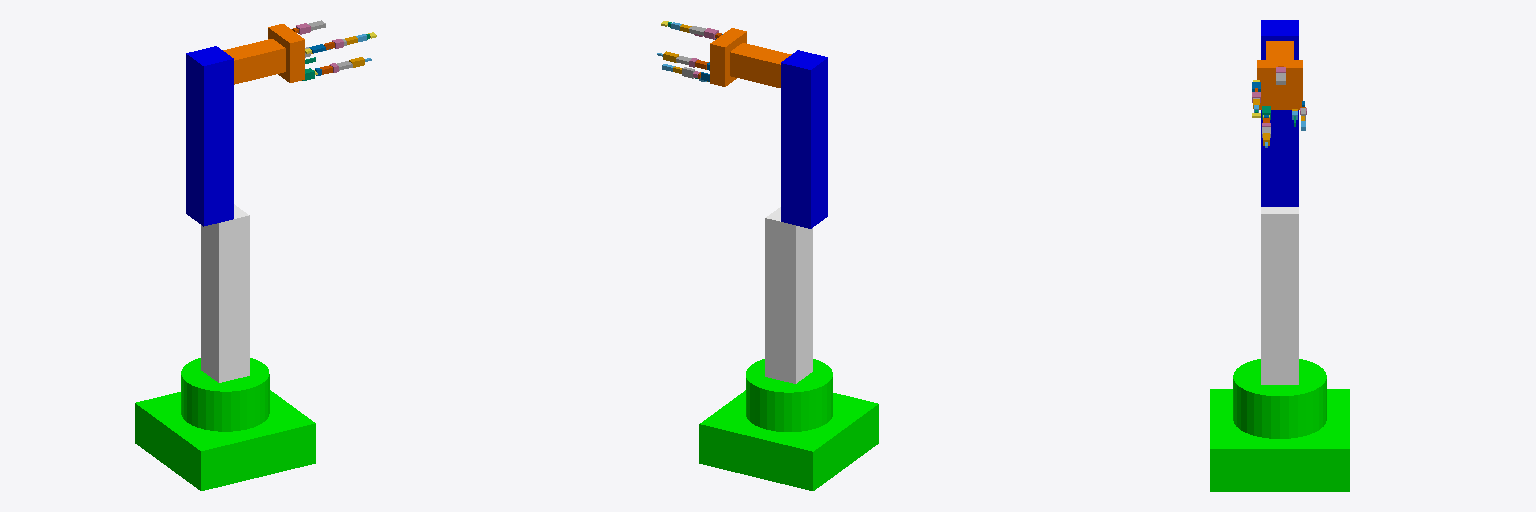
--- Render facts (derived) ---
The picture shows the robot from 3 angles, left to right: view 1: azimuth 30°, elevation 25°; view 2: azimuth 150°, elevation 25°; view 3: azimuth 270°, elevation 25°; orthographic projection.
Model robot with 34 links and 33 joints (30 revolute, 1 continuous, 2 fixed), rooted at base_link, posed all joints at 0.
Visible links, largest first — view 1: base_link, arm_link, support_link, wrist_link, palm_link; view 2: base_link, arm_link, support_link, wrist_link, palm_link; view 3: base_link, support_link, arm_link, palm_link, wrist_link.
Boxes of the visible links, left/top/right/bottom form: base_link: left=135, top=358, right=315, bottom=490; arm_link: left=186, top=46, right=233, bottom=226; support_link: left=201, top=204, right=249, bottom=382; wrist_link: left=223, top=39, right=285, bottom=84; palm_link: left=268, top=24, right=304, bottom=82; base_link: left=699, top=359, right=878, bottom=490; arm_link: left=781, top=50, right=827, bottom=228; support_link: left=765, top=207, right=812, bottom=383; wrist_link: left=730, top=43, right=791, bottom=87; palm_link: left=710, top=28, right=746, bottom=86; base_link: left=1210, top=359, right=1349, bottom=491; support_link: left=1261, top=207, right=1298, bottom=384; arm_link: left=1261, top=20, right=1298, bottom=206; palm_link: left=1257, top=60, right=1302, bottom=109; wrist_link: left=1266, top=41, right=1293, bottom=59.
Bounding box of the posed robot: 1.28 × 0.75 × 2.54 m (x, y, z).
Geometry: primitives only (box / cylinder / sphere), no mesh files.

URDF robot description (robot):
<?xml version='1.0' encoding='utf-8'?>
<robot name="robot">
  <link name="base_link">
    <visual>
      <origin xyz="0 0 0.125" rpy="0 0 0" />
      <geometry>
        <box size="0.75 0.75 0.25" />
      </geometry>
      <material name="green" />
    </visual>
    <visual>
      <origin xyz="0 0 0.375" rpy="0 0 0" />
      <geometry>
        <cylinder length="0.25" radius="0.25" />
      </geometry>
      <material name="green">
        <color rgba="0 1 0 1" />
      </material>
    </visual>
    <collision>
      <geometry>
        <box size="0.75 0.75 0.5" />
      </geometry>
    </collision>
    <inertial>
      <mass value="0.5" />
      <inertia ixx="0.034" ixy="0.0" ixz="0.0" iyy="0.034" iyz="0.0" izz="0.034" />
    </inertial>
  </link>
  <link name="support_link">
    <visual>
      <origin xyz="0 0 0.5" rpy="0 0 0" />
      <geometry>
        <box size="0.2 0.2 1" />
      </geometry>
      <material name="white">
        <color rgba="1 1 1 1" />
      </material>
    </visual>
    <collision>
      <geometry>
        <box size="0.2 0.2 1" />
      </geometry>
    </collision>
    <inertial>
      <mass value="0.1" />
      <inertia ixx="0.01" ixy="0.0" ixz="0.0" iyy="0.01" iyz="0.0" izz="0.01" />
    </inertial>
  </link>
  <joint name="support_joint" type="continuous">
    <origin xyz="0 0 0.5" rpy="0 0 0" />
    <parent link="base_link" />
    <child link="support_link" />
    <axis xyz="0 0 1" />
  </joint>
  <link name="arm_link">
    <visual>
      <origin xyz="0 0 0.5" rpy="0 0 0" />
      <geometry>
        <box size="0.2 0.2 1" />
      </geometry>
      <material name="blue">
        <color rgba="0 0 1 1" />
      </material>
    </visual>
    <collision>
      <geometry>
        <box size="0.2 0.2 1" />
      </geometry>
    </collision>
    <inertial>
      <mass value="0.1" />
      <inertia ixx="0.01" ixy="0.0" ixz="0.0" iyy="0.01" iyz="0.0" izz="0.01" />
    </inertial>
  </link>
  <joint name="arm_joint" type="revolute">
    <origin xyz="-0.1 0 1" rpy="0 0 0" />
    <parent link="support_link" />
    <child link="arm_link" />
    <axis xyz="0 1 0" />
    <limit lower="-3.14" upper="3.14" effort="1.0" velocity="1.0" />
  </joint>
  <link name="wrist_link">
    <visual>
      <origin xyz="0 0 0.25" rpy="0 0 0" />
      <geometry>
        <box size="0.15 0.15 0.5" />
      </geometry>
      <material name="orange">
        <color rgba="1 0.5 0 1" />
      </material>
    </visual>
    <collision>
      <geometry>
        <box size="0.15 0.15 0.5" />
      </geometry>
    </collision>
    <inertial>
      <mass value="0.1" />
      <inertia ixx="0.01" ixy="0.0" ixz="0.0" iyy="0.01" iyz="0.0" izz="0.01" />
    </inertial>
  </link>
  <joint name="wrist_joint" type="fixed">
    <origin xyz="0 0 0.9" rpy="0 1.571 0" />
    <parent link="arm_link" />
    <child link="wrist_link" />
  </joint>
  <link name="palm_link">
    <visual>
      <origin xyz="0 0 0.05" rpy="0 0 0" />
      <geometry>
        <box size="0.25 0.25 0.1" />
      </geometry>
      <material name="orange" />
    </visual>
    <collision>
      <geometry>
        <box size="0.25 0.25 0.1" />
      </geometry>
    </collision>
    <inertial>
      <mass value="0.1" />
      <inertia ixx="0.01" ixy="0.0" ixz="0.0" iyy="0.01" iyz="0.0" izz="0.01" />
    </inertial>
  </link>
  <joint name="palm_joint" type="fixed">
    <origin xyz="0 0 0.45" rpy="0 0 0" />
    <parent link="wrist_link" />
    <child link="palm_link" />
  </joint>
  <link name="finger_link_0_0">
    <visual>
      <origin xyz="0 0 0.013" rpy="0 0 0" />
      <geometry>
        <box size="0.018 0.033 0.026" />
      </geometry>
    </visual>
    <collision>
      <geometry>
        <box size="0.018 0.033 0.026" />
      </geometry>
    </collision>
    <inertial>
      <mass value="0.005" />
      <inertia ixx="0.0" iyy="0.0" izz="0.0" ixy="0" ixz="0" iyz="0" />
    </inertial>
  </link>
  <joint name="finger_joint_palm_link_to_finger_link_0_0" type="revolute">
    <origin xyz="-0.125 0.005 0.1" rpy="0 0 0" />
    <parent link="palm_link" />
    <child link="finger_link_0_0" />
    <axis xyz="0.0 -1.0 0.0" />
    <limit lower="-3.142" upper="3.142" effort="10" velocity="10" />
  </joint>
  <link name="finger_link_0_1">
    <visual>
      <origin xyz="0 0 0.035" rpy="0 0 0" />
      <geometry>
        <box size="0.038 0.05 0.07" />
      </geometry>
    </visual>
    <collision>
      <geometry>
        <box size="0.038 0.05 0.07" />
      </geometry>
    </collision>
    <inertial>
      <mass value="0.04" />
      <inertia ixx="0.0" iyy="0.0" izz="0.0" ixy="0" ixz="0" iyz="0" />
    </inertial>
  </link>
  <joint name="finger_joint_finger_link_0_0_to_finger_link_0_1" type="revolute">
    <origin xyz="0.0 0.0 0.026" rpy="0 0 0" />
    <parent link="finger_link_0_0" />
    <child link="finger_link_0_1" />
    <axis xyz="1.0 0.0 0.0" />
    <limit lower="-3.142" upper="3.142" effort="10" velocity="10" />
  </joint>
  <link name="finger_link_0_2">
    <visual>
      <origin xyz="0 0 0.0495" rpy="0 0 0" />
      <geometry>
        <box size="0.023 0.05 0.099" />
      </geometry>
    </visual>
    <collision>
      <geometry>
        <box size="0.023 0.05 0.099" />
      </geometry>
    </collision>
    <inertial>
      <mass value="0.034" />
      <inertia ixx="0.0" iyy="0.0" izz="0.0" ixy="0" ixz="0" iyz="0" />
    </inertial>
  </link>
  <joint name="finger_joint_finger_link_0_1_to_finger_link_0_2" type="revolute">
    <origin xyz="0.0 0.0 0.07" rpy="0 0 0" />
    <parent link="finger_link_0_1" />
    <child link="finger_link_0_2" />
    <axis xyz="0.0 1.0 0.0" />
    <limit lower="-3.142" upper="3.142" effort="10" velocity="10" />
  </joint>
  <link name="finger_link_1_0">
    <visual>
      <origin xyz="0 0 0.024" rpy="0 0 0" />
      <geometry>
        <box size="0.014 0.03 0.048" />
      </geometry>
    </visual>
    <collision>
      <geometry>
        <box size="0.014 0.03 0.048" />
      </geometry>
    </collision>
    <inertial>
      <mass value="0.006" />
      <inertia ixx="0.0" iyy="0.0" izz="0.0" ixy="0" ixz="0" iyz="0" />
    </inertial>
  </link>
  <joint name="finger_joint_palm_link_to_finger_link_1_0" type="revolute">
    <origin xyz="0.125 0.081 0.1" rpy="0 0 0" />
    <parent link="palm_link" />
    <child link="finger_link_1_0" />
    <axis xyz="0.0 1.0 0.0" />
    <limit lower="-3.142" upper="3.142" effort="10" velocity="10" />
  </joint>
  <link name="finger_link_1_1">
    <visual>
      <origin xyz="0 0 0.0215" rpy="0 0 0" />
      <geometry>
        <box size="0.032 0.035 0.043" />
      </geometry>
    </visual>
    <collision>
      <geometry>
        <box size="0.032 0.035 0.043" />
      </geometry>
    </collision>
    <inertial>
      <mass value="0.014" />
      <inertia ixx="0.0" iyy="0.0" izz="0.0" ixy="0" ixz="0" iyz="0" />
    </inertial>
  </link>
  <joint name="finger_joint_finger_link_1_0_to_finger_link_1_1" type="revolute">
    <origin xyz="0.0 0.0 0.048" rpy="0 0 0" />
    <parent link="finger_link_1_0" />
    <child link="finger_link_1_1" />
    <axis xyz="0.0 1.0 0.0" />
    <limit lower="-3.142" upper="3.142" effort="10" velocity="10" />
  </joint>
  <link name="finger_link_1_2">
    <visual>
      <origin xyz="0 0 0.048" rpy="0 0 0" />
      <geometry>
        <box size="0.024 0.011 0.096" />
      </geometry>
    </visual>
    <collision>
      <geometry>
        <box size="0.024 0.011 0.096" />
      </geometry>
    </collision>
    <inertial>
      <mass value="0.008" />
      <inertia ixx="0.0" iyy="0.0" izz="0.0" ixy="0" ixz="0" iyz="0" />
    </inertial>
  </link>
  <joint name="finger_joint_finger_link_1_1_to_finger_link_1_2" type="revolute">
    <origin xyz="0.0 0.0 0.043" rpy="0 0 0" />
    <parent link="finger_link_1_1" />
    <child link="finger_link_1_2" />
    <axis xyz="0.0 1.0 0.0" />
    <limit lower="-3.142" upper="3.142" effort="10" velocity="10" />
  </joint>
  <link name="finger_link_2_0">
    <visual>
      <origin xyz="0 0 0.018" rpy="0 0 0" />
      <geometry>
        <box size="0.013 0.033 0.036" />
      </geometry>
    </visual>
    <collision>
      <geometry>
        <box size="0.013 0.033 0.036" />
      </geometry>
    </collision>
    <inertial>
      <mass value="0.005" />
      <inertia ixx="0.0" iyy="0.0" izz="0.0" ixy="0" ixz="0" iyz="0" />
    </inertial>
  </link>
  <joint name="finger_joint_palm_link_to_finger_link_2_0" type="revolute">
    <origin xyz="-0.049 -0.125 0.1" rpy="0 0 0" />
    <parent link="palm_link" />
    <child link="finger_link_2_0" />
    <axis xyz="1.0 0.0 0.0" />
    <limit lower="-3.142" upper="3.142" effort="10" velocity="10" />
  </joint>
  <link name="finger_link_2_1">
    <visual>
      <origin xyz="0 0 0.0435" rpy="0 0 0" />
      <geometry>
        <box size="0.02 0.049 0.087" />
      </geometry>
    </visual>
    <collision>
      <geometry>
        <box size="0.02 0.049 0.087" />
      </geometry>
    </collision>
    <inertial>
      <mass value="0.026" />
      <inertia ixx="0.0" iyy="0.0" izz="0.0" ixy="0" ixz="0" iyz="0" />
    </inertial>
  </link>
  <joint name="finger_joint_finger_link_2_0_to_finger_link_2_1" type="revolute">
    <origin xyz="0.0 0.0 0.036" rpy="0 0 0" />
    <parent link="finger_link_2_0" />
    <child link="finger_link_2_1" />
    <axis xyz="1.0 0.0 0.0" />
    <limit lower="-3.142" upper="3.142" effort="10" velocity="10" />
  </joint>
  <link name="finger_link_2_2">
    <visual>
      <origin xyz="0 0 0.0315" rpy="0 0 0" />
      <geometry>
        <box size="0.035 0.015 0.063" />
      </geometry>
    </visual>
    <collision>
      <geometry>
        <box size="0.035 0.015 0.063" />
      </geometry>
    </collision>
    <inertial>
      <mass value="0.01" />
      <inertia ixx="0.0" iyy="0.0" izz="0.0" ixy="0" ixz="0" iyz="0" />
    </inertial>
  </link>
  <joint name="finger_joint_finger_link_2_1_to_finger_link_2_2" type="revolute">
    <origin xyz="0.0 0.0 0.087" rpy="0 0 0" />
    <parent link="finger_link_2_1" />
    <child link="finger_link_2_2" />
    <axis xyz="1.0 0.0 0.0" />
    <limit lower="-3.142" upper="3.142" effort="10" velocity="10" />
  </joint>
  <link name="finger_link_2_3">
    <visual>
      <origin xyz="0 0 0.027" rpy="0 0 0" />
      <geometry>
        <box size="0.036 0.044 0.054" />
      </geometry>
    </visual>
    <collision>
      <geometry>
        <box size="0.036 0.044 0.054" />
      </geometry>
    </collision>
    <inertial>
      <mass value="0.026" />
      <inertia ixx="0.0" iyy="0.0" izz="0.0" ixy="0" ixz="0" iyz="0" />
    </inertial>
  </link>
  <joint name="finger_joint_finger_link_2_2_to_finger_link_2_3" type="revolute">
    <origin xyz="0.0 0.0 0.063" rpy="0 0 0" />
    <parent link="finger_link_2_2" />
    <child link="finger_link_2_3" />
    <axis xyz="0.0 1.0 0.0" />
    <limit lower="-3.142" upper="3.142" effort="10" velocity="10" />
  </joint>
  <link name="finger_link_2_4">
    <visual>
      <origin xyz="0 0 0.0115" rpy="0 0 0" />
      <geometry>
        <box size="0.026 0.038 0.023" />
      </geometry>
    </visual>
    <collision>
      <geometry>
        <box size="0.026 0.038 0.023" />
      </geometry>
    </collision>
    <inertial>
      <mass value="0.007" />
      <inertia ixx="0.0" iyy="0.0" izz="0.0" ixy="0" ixz="0" iyz="0" />
    </inertial>
  </link>
  <joint name="finger_joint_finger_link_2_3_to_finger_link_2_4" type="revolute">
    <origin xyz="0.0 0.0 0.054" rpy="0 0 0" />
    <parent link="finger_link_2_3" />
    <child link="finger_link_2_4" />
    <axis xyz="0.0 1.0 0.0" />
    <limit lower="-3.142" upper="3.142" effort="10" velocity="10" />
  </joint>
  <link name="finger_link_2_5">
    <visual>
      <origin xyz="0 0 0.0355" rpy="0 0 0" />
      <geometry>
        <box size="0.026 0.036 0.071" />
      </geometry>
    </visual>
    <collision>
      <geometry>
        <box size="0.026 0.036 0.071" />
      </geometry>
    </collision>
    <inertial>
      <mass value="0.02" />
      <inertia ixx="0.0" iyy="0.0" izz="0.0" ixy="0" ixz="0" iyz="0" />
    </inertial>
  </link>
  <joint name="finger_joint_finger_link_2_4_to_finger_link_2_5" type="revolute">
    <origin xyz="0.0 0.0 0.023" rpy="0 0 0" />
    <parent link="finger_link_2_4" />
    <child link="finger_link_2_5" />
    <axis xyz="0.0 1.0 0.0" />
    <limit lower="-3.142" upper="3.142" effort="10" velocity="10" />
  </joint>
  <link name="finger_link_2_6">
    <visual>
      <origin xyz="0 0 0.03" rpy="0 0 0" />
      <geometry>
        <box size="0.031 0.026 0.06" />
      </geometry>
    </visual>
    <collision>
      <geometry>
        <box size="0.031 0.026 0.06" />
      </geometry>
    </collision>
    <inertial>
      <mass value="0.015" />
      <inertia ixx="0.0" iyy="0.0" izz="0.0" ixy="0" ixz="0" iyz="0" />
    </inertial>
  </link>
  <joint name="finger_joint_finger_link_2_5_to_finger_link_2_6" type="revolute">
    <origin xyz="0.0 0.0 0.071" rpy="0 0 0" />
    <parent link="finger_link_2_5" />
    <child link="finger_link_2_6" />
    <axis xyz="0.0 1.0 0.0" />
    <limit lower="-3.142" upper="3.142" effort="10" velocity="10" />
  </joint>
  <link name="finger_link_2_7">
    <visual>
      <origin xyz="0 0 0.012" rpy="0 0 0" />
      <geometry>
        <box size="0.026 0.018 0.024" />
      </geometry>
    </visual>
    <collision>
      <geometry>
        <box size="0.026 0.018 0.024" />
      </geometry>
    </collision>
    <inertial>
      <mass value="0.003" />
      <inertia ixx="0.0" iyy="0.0" izz="0.0" ixy="0" ixz="0" iyz="0" />
    </inertial>
  </link>
  <joint name="finger_joint_finger_link_2_6_to_finger_link_2_7" type="revolute">
    <origin xyz="0.0 0.0 0.06" rpy="0 0 0" />
    <parent link="finger_link_2_6" />
    <child link="finger_link_2_7" />
    <axis xyz="1.0 1.0 0.0" />
    <limit lower="-3.142" upper="3.142" effort="10" velocity="10" />
  </joint>
  <link name="finger_link_2_8">
    <visual>
      <origin xyz="0 0 0.019" rpy="0 0 0" />
      <geometry>
        <box size="0.013 0.045 0.038" />
      </geometry>
    </visual>
    <collision>
      <geometry>
        <box size="0.013 0.045 0.038" />
      </geometry>
    </collision>
    <inertial>
      <mass value="0.007" />
      <inertia ixx="0.0" iyy="0.0" izz="0.0" ixy="0" ixz="0" iyz="0" />
    </inertial>
  </link>
  <joint name="finger_joint_finger_link_2_7_to_finger_link_2_8" type="revolute">
    <origin xyz="0.0 0.0 0.024" rpy="0 0 0" />
    <parent link="finger_link_2_7" />
    <child link="finger_link_2_8" />
    <axis xyz="0.0 1.0 0.0" />
    <limit lower="-3.142" upper="3.142" effort="10" velocity="10" />
  </joint>
  <link name="finger_link_3_0">
    <visual>
      <origin xyz="0 0 0.029" rpy="0 0 0" />
      <geometry>
        <box size="0.044 0.011 0.058" />
      </geometry>
    </visual>
    <collision>
      <geometry>
        <box size="0.044 0.011 0.058" />
      </geometry>
    </collision>
    <inertial>
      <mass value="0.008" />
      <inertia ixx="0.0" iyy="0.0" izz="0.0" ixy="0" ixz="0" iyz="0" />
    </inertial>
  </link>
  <joint name="finger_joint_palm_link_to_finger_link_3_0" type="revolute">
    <origin xyz="0.09 0.125 0.1" rpy="0 0 0" />
    <parent link="palm_link" />
    <child link="finger_link_3_0" />
    <axis xyz="-1.0 0.0 0.0" />
    <limit lower="-3.142" upper="3.142" effort="10" velocity="10" />
  </joint>
  <link name="finger_link_3_1">
    <visual>
      <origin xyz="0 0 0.0065" rpy="0 0 0" />
      <geometry>
        <box size="0.027 0.03 0.013" />
      </geometry>
    </visual>
    <collision>
      <geometry>
        <box size="0.027 0.03 0.013" />
      </geometry>
    </collision>
    <inertial>
      <mass value="0.003" />
      <inertia ixx="0.0" iyy="0.0" izz="0.0" ixy="0" ixz="0" iyz="0" />
    </inertial>
  </link>
  <joint name="finger_joint_finger_link_3_0_to_finger_link_3_1" type="revolute">
    <origin xyz="0.0 0.0 0.058" rpy="0 0 0" />
    <parent link="finger_link_3_0" />
    <child link="finger_link_3_1" />
    <axis xyz="0.0 1.0 0.0" />
    <limit lower="-3.142" upper="3.142" effort="10" velocity="10" />
  </joint>
  <link name="finger_link_3_2">
    <visual>
      <origin xyz="0 0 0.0165" rpy="0 0 0" />
      <geometry>
        <box size="0.024 0.037 0.033" />
      </geometry>
    </visual>
    <collision>
      <geometry>
        <box size="0.024 0.037 0.033" />
      </geometry>
    </collision>
    <inertial>
      <mass value="0.009" />
      <inertia ixx="0.0" iyy="0.0" izz="0.0" ixy="0" ixz="0" iyz="0" />
    </inertial>
  </link>
  <joint name="finger_joint_finger_link_3_1_to_finger_link_3_2" type="revolute">
    <origin xyz="0.0 0.0 0.013" rpy="0 0 0" />
    <parent link="finger_link_3_1" />
    <child link="finger_link_3_2" />
    <axis xyz="1.0 0.0 0.0" />
    <limit lower="-3.142" upper="3.142" effort="10" velocity="10" />
  </joint>
  <link name="finger_link_3_3">
    <visual>
      <origin xyz="0 0 0.0355" rpy="0 0 0" />
      <geometry>
        <box size="0.049 0.025 0.071" />
      </geometry>
    </visual>
    <collision>
      <geometry>
        <box size="0.049 0.025 0.071" />
      </geometry>
    </collision>
    <inertial>
      <mass value="0.026" />
      <inertia ixx="0.0" iyy="0.0" izz="0.0" ixy="0" ixz="0" iyz="0" />
    </inertial>
  </link>
  <joint name="finger_joint_finger_link_3_2_to_finger_link_3_3" type="revolute">
    <origin xyz="0.0 0.0 0.033" rpy="0 0 0" />
    <parent link="finger_link_3_2" />
    <child link="finger_link_3_3" />
    <axis xyz="1.0 0.0 0.0" />
    <limit lower="-3.142" upper="3.142" effort="10" velocity="10" />
  </joint>
  <link name="finger_link_3_4">
    <visual>
      <origin xyz="0 0 0.0315" rpy="0 0 0" />
      <geometry>
        <box size="0.027 0.021 0.063" />
      </geometry>
    </visual>
    <collision>
      <geometry>
        <box size="0.027 0.021 0.063" />
      </geometry>
    </collision>
    <inertial>
      <mass value="0.011" />
      <inertia ixx="0.0" iyy="0.0" izz="0.0" ixy="0" ixz="0" iyz="0" />
    </inertial>
  </link>
  <joint name="finger_joint_finger_link_3_3_to_finger_link_3_4" type="revolute">
    <origin xyz="0.0 0.0 0.071" rpy="0 0 0" />
    <parent link="finger_link_3_3" />
    <child link="finger_link_3_4" />
    <axis xyz="0.0 1.0 0.0" />
    <limit lower="-3.142" upper="3.142" effort="10" velocity="10" />
  </joint>
  <link name="finger_link_3_5">
    <visual>
      <origin xyz="0 0 0.0365" rpy="0 0 0" />
      <geometry>
        <box size="0.026 0.026 0.073" />
      </geometry>
    </visual>
    <collision>
      <geometry>
        <box size="0.026 0.026 0.073" />
      </geometry>
    </collision>
    <inertial>
      <mass value="0.015" />
      <inertia ixx="0.0" iyy="0.0" izz="0.0" ixy="0" ixz="0" iyz="0" />
    </inertial>
  </link>
  <joint name="finger_joint_finger_link_3_4_to_finger_link_3_5" type="revolute">
    <origin xyz="0.0 0.0 0.063" rpy="0 0 0" />
    <parent link="finger_link_3_4" />
    <child link="finger_link_3_5" />
    <axis xyz="0.0 1.0 0.0" />
    <limit lower="-3.142" upper="3.142" effort="10" velocity="10" />
  </joint>
  <link name="finger_link_4_0">
    <visual>
      <origin xyz="0 0 0.0385" rpy="0 0 0" />
      <geometry>
        <box size="0.046 0.049 0.077" />
      </geometry>
    </visual>
    <collision>
      <geometry>
        <box size="0.046 0.049 0.077" />
      </geometry>
    </collision>
    <inertial>
      <mass value="0.052" />
      <inertia ixx="0.0" iyy="0.0" izz="0.0" ixy="0" ixz="0" iyz="0" />
    </inertial>
  </link>
  <joint name="finger_joint_palm_link_to_finger_link_4_0" type="revolute">
    <origin xyz="0.125 -0.072 0.1" rpy="0 0 0" />
    <parent link="palm_link" />
    <child link="finger_link_4_0" />
    <axis xyz="0.0 1.0 0.0" />
    <limit lower="-3.142" upper="3.142" effort="10" velocity="10" />
  </joint>
  <link name="finger_link_4_1">
    <visual>
      <origin xyz="0 0 0.012" rpy="0 0 0" />
      <geometry>
        <box size="0.012 0.038 0.024" />
      </geometry>
    </visual>
    <collision>
      <geometry>
        <box size="0.012 0.038 0.024" />
      </geometry>
    </collision>
    <inertial>
      <mass value="0.003" />
      <inertia ixx="0.0" iyy="0.0" izz="0.0" ixy="0" ixz="0" iyz="0" />
    </inertial>
  </link>
  <joint name="finger_joint_finger_link_4_0_to_finger_link_4_1" type="revolute">
    <origin xyz="0.0 0.0 0.077" rpy="0 0 0" />
    <parent link="finger_link_4_0" />
    <child link="finger_link_4_1" />
    <axis xyz="0.0 1.0 0.0" />
    <limit lower="-3.142" upper="3.142" effort="10" velocity="10" />
  </joint>
  <link name="finger_link_4_2">
    <visual>
      <origin xyz="0 0 0.0135" rpy="0 0 0" />
      <geometry>
        <box size="0.037 0.029 0.027" />
      </geometry>
    </visual>
    <collision>
      <geometry>
        <box size="0.037 0.029 0.027" />
      </geometry>
    </collision>
    <inertial>
      <mass value="0.009" />
      <inertia ixx="0.0" iyy="0.0" izz="0.0" ixy="0" ixz="0" iyz="0" />
    </inertial>
  </link>
  <joint name="finger_joint_finger_link_4_1_to_finger_link_4_2" type="revolute">
    <origin xyz="0.0 0.0 0.024" rpy="0 0 0" />
    <parent link="finger_link_4_1" />
    <child link="finger_link_4_2" />
    <axis xyz="0.0 1.0 0.0" />
    <limit lower="-3.142" upper="3.142" effort="10" velocity="10" />
  </joint>
  <link name="finger_link_4_3">
    <visual>
      <origin xyz="0 0 0.037" rpy="0 0 0" />
      <geometry>
        <box size="0.03 0.037 0.074" />
      </geometry>
    </visual>
    <collision>
      <geometry>
        <box size="0.03 0.037 0.074" />
      </geometry>
    </collision>
    <inertial>
      <mass value="0.025" />
      <inertia ixx="0.0" iyy="0.0" izz="0.0" ixy="0" ixz="0" iyz="0" />
    </inertial>
  </link>
  <joint name="finger_joint_finger_link_4_2_to_finger_link_4_3" type="revolute">
    <origin xyz="0.0 0.0 0.027" rpy="0 0 0" />
    <parent link="finger_link_4_2" />
    <child link="finger_link_4_3" />
    <axis xyz="0.0 1.0 0.0" />
    <limit lower="-3.142" upper="3.142" effort="10" velocity="10" />
  </joint>
  <link name="finger_link_4_4">
    <visual>
      <origin xyz="0 0 0.017" rpy="0 0 0" />
      <geometry>
        <box size="0.038 0.048 0.034" />
      </geometry>
    </visual>
    <collision>
      <geometry>
        <box size="0.038 0.048 0.034" />
      </geometry>
    </collision>
    <inertial>
      <mass value="0.019" />
      <inertia ixx="0.0" iyy="0.0" izz="0.0" ixy="0" ixz="0" iyz="0" />
    </inertial>
  </link>
  <joint name="finger_joint_finger_link_4_3_to_finger_link_4_4" type="revolute">
    <origin xyz="0.0 0.0 0.074" rpy="0 0 0" />
    <parent link="finger_link_4_3" />
    <child link="finger_link_4_4" />
    <axis xyz="0.0 1.0 0.0" />
    <limit lower="-3.142" upper="3.142" effort="10" velocity="10" />
  </joint>
  <link name="finger_link_4_5">
    <visual>
      <origin xyz="0 0 0.045" rpy="0 0 0" />
      <geometry>
        <box size="0.022 0.049 0.09" />
      </geometry>
    </visual>
    <collision>
      <geometry>
        <box size="0.022 0.049 0.09" />
      </geometry>
    </collision>
    <inertial>
      <mass value="0.029" />
      <inertia ixx="0.0" iyy="0.0" izz="0.0" ixy="0" ixz="0" iyz="0" />
    </inertial>
  </link>
  <joint name="finger_joint_finger_link_4_4_to_finger_link_4_5" type="revolute">
    <origin xyz="0.0 0.0 0.034" rpy="0 0 0" />
    <parent link="finger_link_4_4" />
    <child link="finger_link_4_5" />
    <axis xyz="1.0 0.0 0.0" />
    <limit lower="-3.142" upper="3.142" effort="10" velocity="10" />
  </joint>
  <link name="finger_link_4_6">
    <visual>
      <origin xyz="0 0 0.0425" rpy="0 0 0" />
      <geometry>
        <box size="0.038 0.037 0.085" />
      </geometry>
    </visual>
    <collision>
      <geometry>
        <box size="0.038 0.037 0.085" />
      </geometry>
    </collision>
    <inertial>
      <mass value="0.036" />
      <inertia ixx="0.0" iyy="0.0" izz="0.0" ixy="0" ixz="0" iyz="0" />
    </inertial>
  </link>
  <joint name="finger_joint_finger_link_4_5_to_finger_link_4_6" type="revolute">
    <origin xyz="0.0 0.0 0.09" rpy="0 0 0" />
    <parent link="finger_link_4_5" />
    <child link="finger_link_4_6" />
    <axis xyz="0.0 1.0 0.0" />
    <limit lower="-3.142" upper="3.142" effort="10" velocity="10" />
  </joint>
  <link name="finger_link_4_7">
    <visual>
      <origin xyz="0 0 0.024" rpy="0 0 0" />
      <geometry>
        <box size="0.011 0.016 0.048" />
      </geometry>
    </visual>
    <collision>
      <geometry>
        <box size="0.011 0.016 0.048" />
      </geometry>
    </collision>
    <inertial>
      <mass value="0.003" />
      <inertia ixx="0.0" iyy="0.0" izz="0.0" ixy="0" ixz="0" iyz="0" />
    </inertial>
  </link>
  <joint name="finger_joint_finger_link_4_6_to_finger_link_4_7" type="revolute">
    <origin xyz="0.0 0.0 0.085" rpy="0 0 0" />
    <parent link="finger_link_4_6" />
    <child link="finger_link_4_7" />
    <axis xyz="0.0 1.0 0.0" />
    <limit lower="-3.142" upper="3.142" effort="10" velocity="10" />
  </joint>
</robot>
